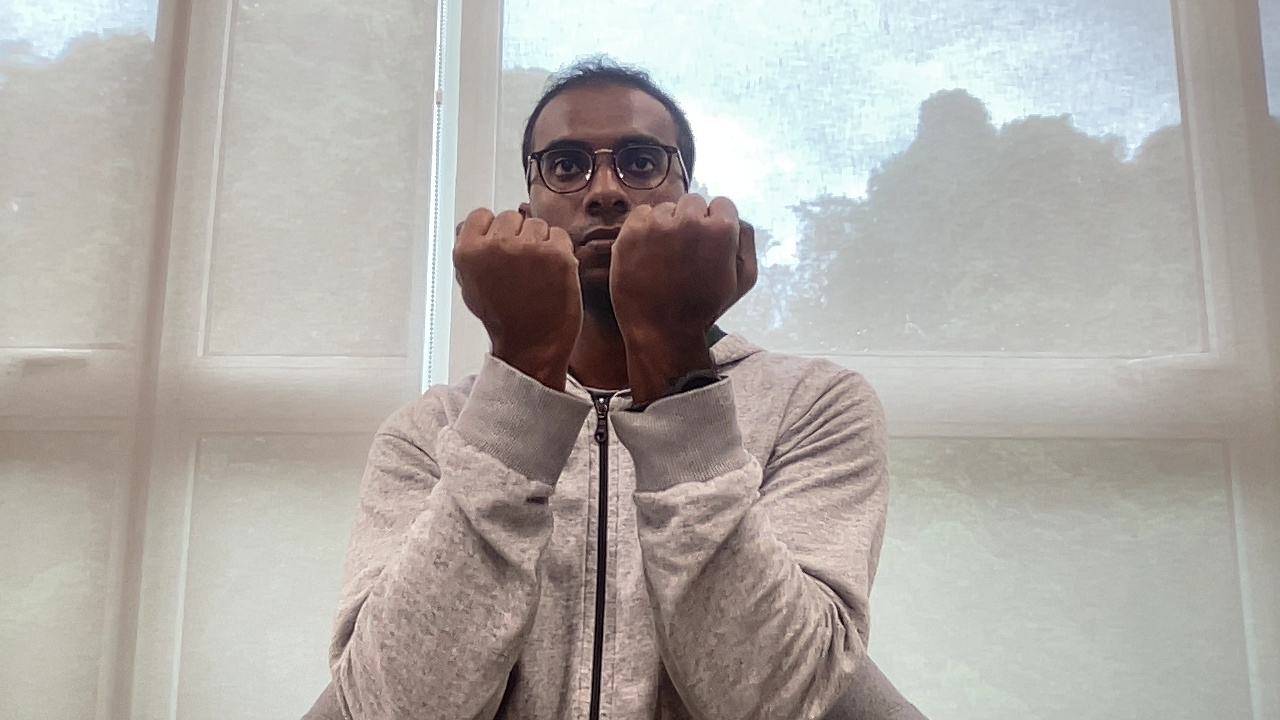finish: (446, 190, 764, 352)
